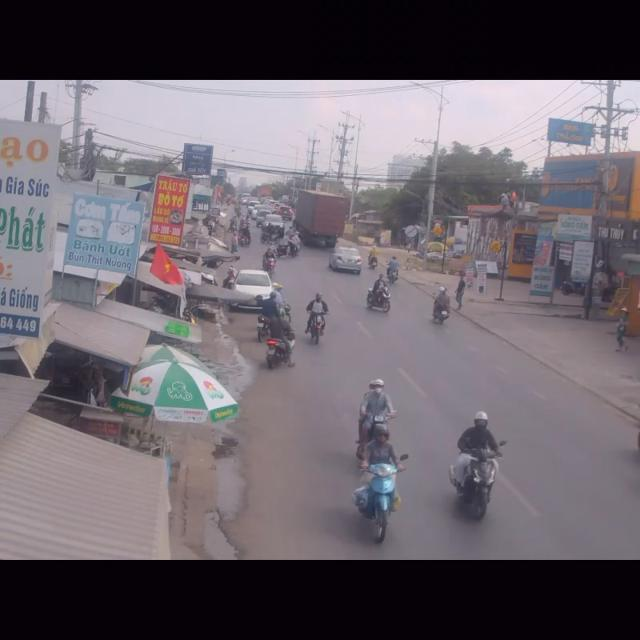car: (331, 247, 362, 270)
motorbike: (347, 376, 402, 548), (446, 407, 506, 523), (267, 311, 296, 374), (306, 292, 328, 348), (256, 294, 277, 339), (366, 274, 392, 310), (432, 285, 452, 327), (386, 259, 402, 285), (262, 247, 276, 274), (368, 246, 378, 269)
truck: (292, 190, 344, 250)
